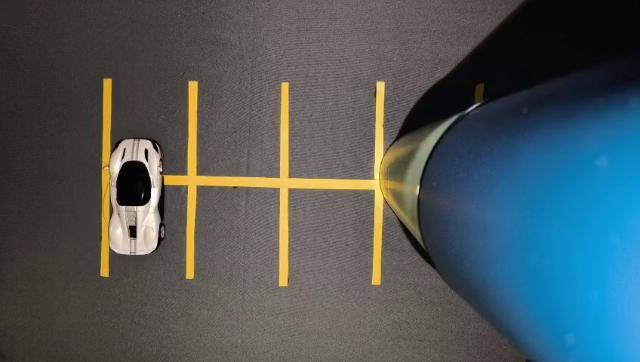toy_car: (83, 121, 192, 274)
